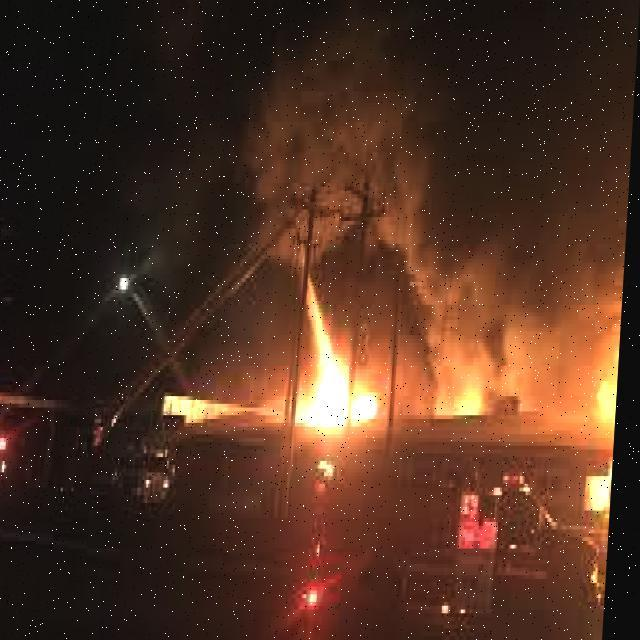Fire: (282, 217, 403, 442)
